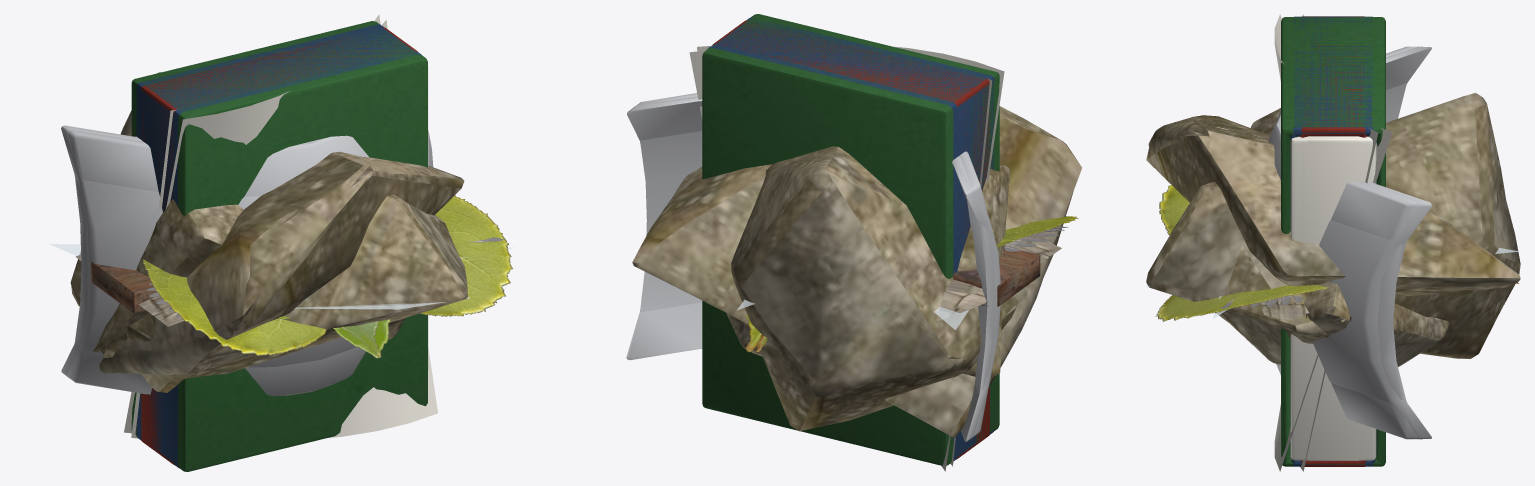
File: fx_debris.glb
The picture shows the model from 3 angles, left to right: view 1: azimuth 30°, elevation 25°; view 2: azimuth 150°, elevation 25°; view 3: azimuth 270°, elevation 25°; orthographic projection. The views are drawn at different scales.
Parts seen in each view (by area): view 1: book_green, stone_1, stone_3, book_blue, metal_1, leaf_3, metal_2, stone_2, page_2, book_red, wood_2, wood_1 (+5 smaller); view 2: stone_3, book_green, stone_1, book_blue, metal_1, metal_2, book_red, stone_2, wood_2, page_2, slate_2, leaf_3 (+1 smaller); view 3: stone_3, book_green, stone_1, book_blue, metal_2, metal_1, stone_2, book_red, leaf_3, page_2, slate_1, page_1.
Part boxes in pixels (bbox=[...]): book_green: bbox=[131, 21, 428, 471]; stone_1: bbox=[99, 151, 464, 374]; stone_3: bbox=[70, 72, 467, 392]; book_blue: bbox=[136, 24, 421, 467]; metal_1: bbox=[67, 130, 368, 396]; leaf_3: bbox=[143, 195, 512, 355]; metal_2: bbox=[61, 125, 433, 378]; stone_2: bbox=[93, 199, 406, 357]; page_2: bbox=[124, 14, 437, 437]; book_red: bbox=[141, 27, 417, 465]; wood_2: bbox=[91, 261, 157, 313]; wood_1: bbox=[92, 263, 131, 311]; stone_3: bbox=[731, 146, 1021, 431]; book_green: bbox=[702, 14, 999, 465]; stone_1: bbox=[632, 106, 1081, 437]; book_blue: bbox=[708, 17, 994, 461]; metal_1: bbox=[636, 93, 995, 436]; metal_2: bbox=[626, 96, 1000, 441]; book_red: bbox=[712, 20, 989, 459]; stone_2: bbox=[726, 164, 1009, 377]; wood_2: bbox=[953, 249, 1040, 306]; page_2: bbox=[689, 46, 1004, 471]; slate_2: bbox=[936, 237, 1061, 321]; leaf_3: bbox=[748, 216, 1078, 342]; stone_3: bbox=[1146, 93, 1520, 358]; book_green: bbox=[1281, 17, 1385, 466]; stone_1: bbox=[1146, 115, 1520, 296]; book_blue: bbox=[1290, 16, 1376, 466]; metal_2: bbox=[1313, 46, 1431, 439]; metal_1: bbox=[1268, 46, 1419, 439]; stone_2: bbox=[1216, 108, 1449, 366]; book_red: bbox=[1300, 16, 1366, 466]; leaf_3: bbox=[1155, 185, 1328, 321]; page_2: bbox=[1274, 14, 1392, 471]; slate_1: bbox=[1260, 300, 1309, 320]; page_1: bbox=[1300, 14, 1378, 471].
Size of what is drawn, in the model's own units: 1 by 1 by 1.
Materials: 13 (10 with a texture image).
